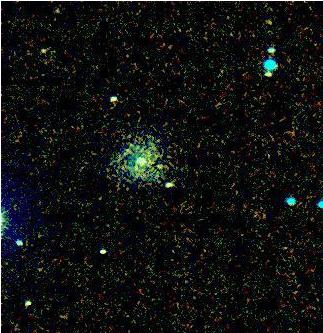star: (143, 151, 173, 181)
